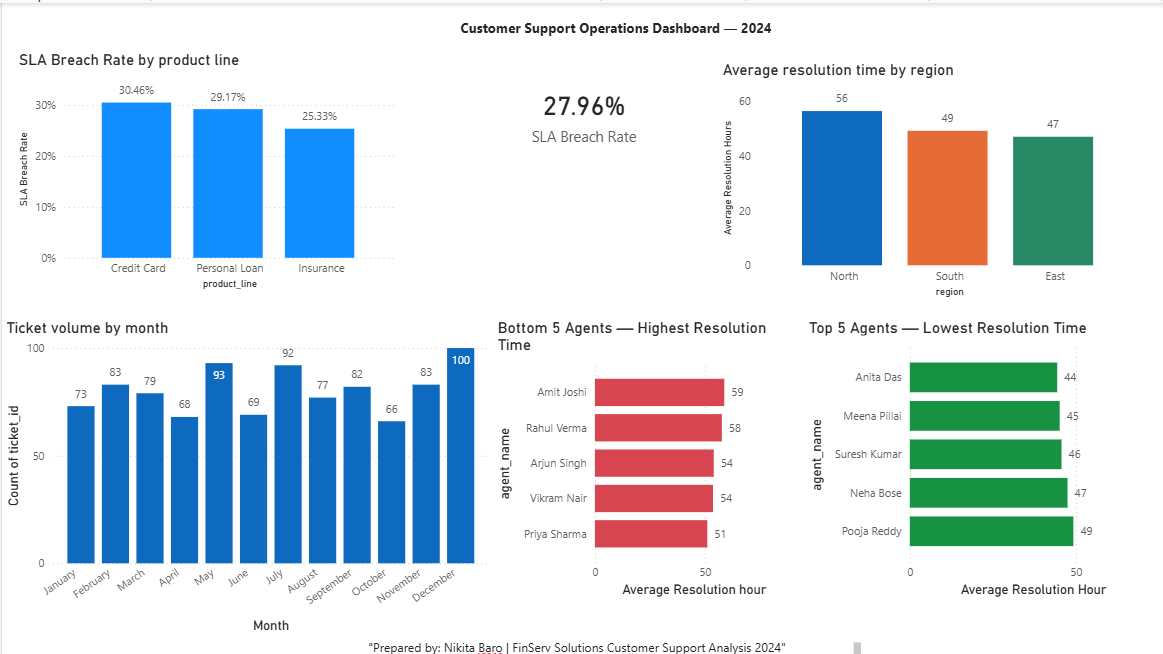

This screenshot's page, from the dashboard's own definition file:
{"tool":"powerbi","page":{"name":"Page 1","canvas":[1280,720],"ordinal":0},"visuals":[{"type":"columnChart","title":"Ticket volume by month","fields":{"Category":["cleaned_tickets.created_at_clean.Variation.Date Hierarchy.Month"],"Y":["CountNonNull(cleaned_tickets.ticket_id)"]},"box":[0,345.8,539.3,351.3],"z":0},{"type":"textbox","box":[190.7,12.3,800,50.8],"z":1000},{"type":"columnChart","title":"Average resolution time by region","fields":{"Category":["cleaned_tickets.region"],"Y":["cleaned_tickets.AverageResolutionHours_Normal"]},"box":[786.3,63.1,467.9,264.8],"z":2000},{"type":"card","fields":{"Values":["cleaned_tickets.SLA Breach Rate"]},"box":[524.6,63.6,229.9,117.4],"z":3000},{"type":"columnChart","title":"SLA Breach Rate by product line","fields":{"Category":["cleaned_tickets.product_line"],"Y":["cleaned_tickets.SLA Breach Rate"]},"box":[13.7,52.1,422.6,267.6],"z":4000},{"type":"barChart","title":"Bottom 5 Agents — Highest Resolution Time","fields":{"Y":["cleaned_tickets.AverageResolutionHours_Normal"],"Category":["cleaned_tickets.agent_name"]},"box":[539.3,345.8,341.7,311.5],"z":5000},{"type":"barChart","title":"Top 5 Agents — Lowest Resolution Time","fields":{"Y":["cleaned_tickets.AverageResolutionHours_Normal"],"Category":["cleaned_tickets.agent_name"]},"box":[881,345.8,399.3,311.5],"z":6000},{"type":"textbox","box":[396.6,697.1,551.6,23.3],"z":7000}]}

Visuals, with their boxes in screenshot pixels (x1, y1, x2, y2), scaled from the page's 1280x720 canvas onto the 1163x654 screenshot:
"Ticket volume by month" columnChart: detection(0, 314, 490, 633)
textbox: detection(173, 11, 900, 57)
"Average resolution time by region" columnChart: detection(714, 57, 1140, 298)
card - cleaned_tickets.SLA Breach Rate: detection(477, 58, 686, 164)
"SLA Breach Rate by product line" columnChart: detection(12, 47, 396, 290)
"Bottom 5 Agents — Highest Resolution Time" barChart: detection(490, 314, 800, 597)
"Top 5 Agents — Lowest Resolution Time" barChart: detection(800, 314, 1162, 597)
textbox: detection(360, 633, 862, 653)
